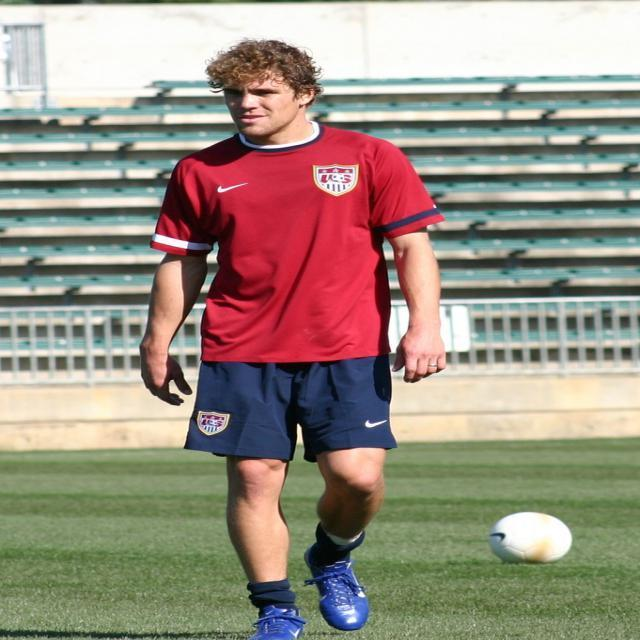football: (494, 503, 581, 581)
